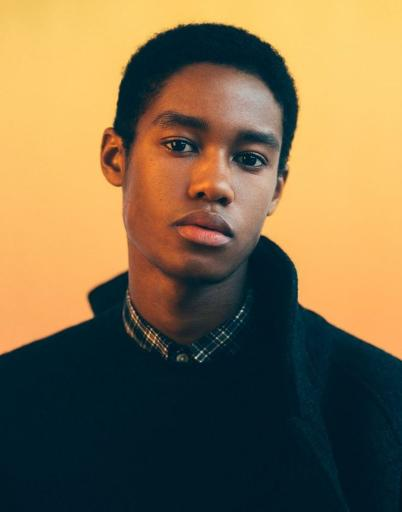left_eye: (234, 153, 269, 173)
left_lip_corner: (227, 230, 237, 243)
right_eye: (160, 138, 200, 159)
right_lip_corner: (169, 218, 181, 232)
